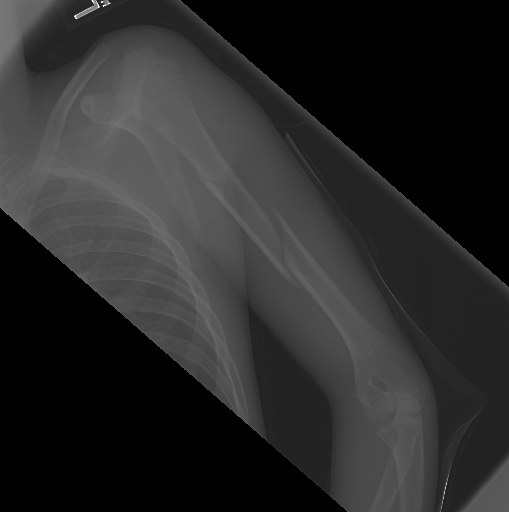fracture: (257, 194, 307, 303)
